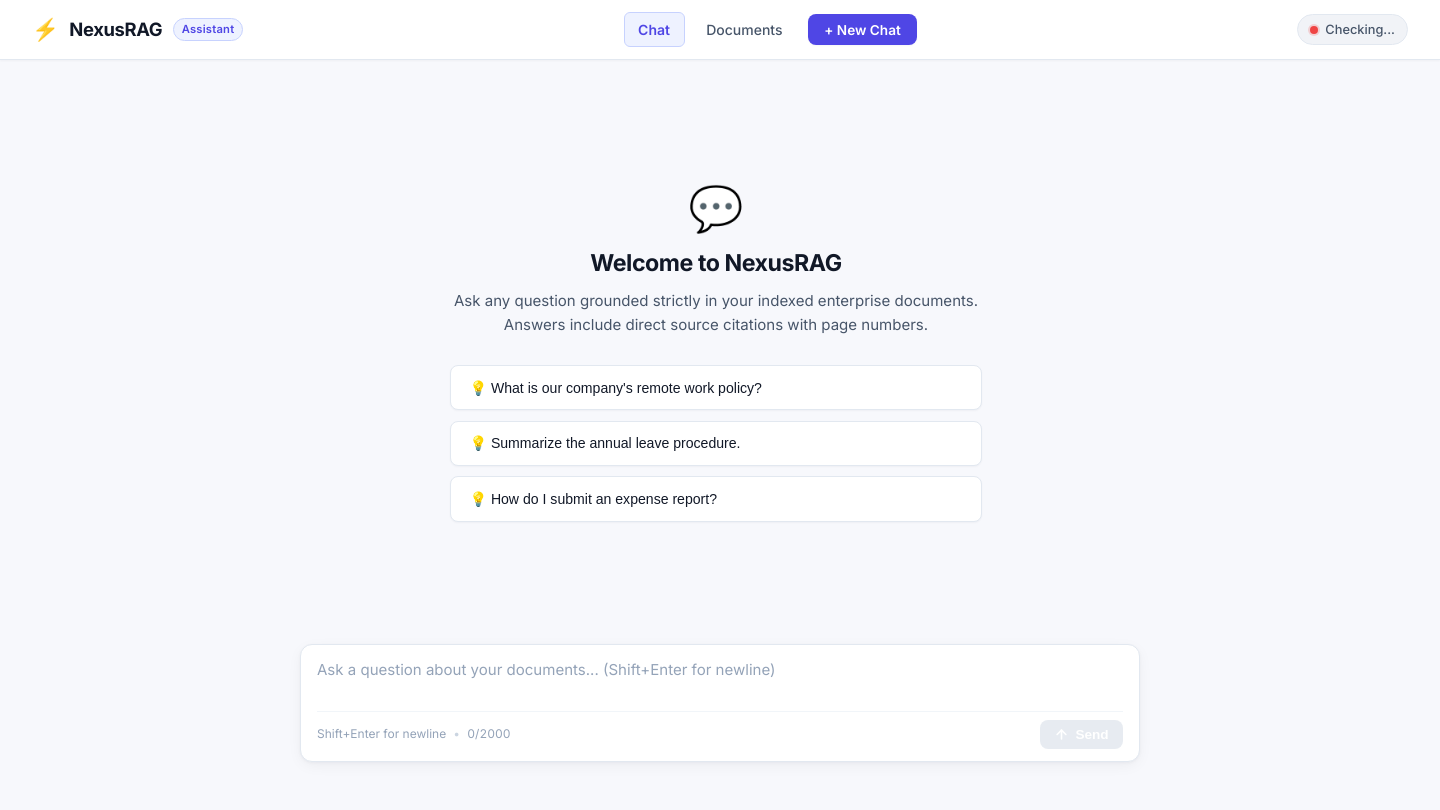
Test case: Conversation Persistence — ConversationContext › 9. Chat messages survive navigation Chat → Documents → Chat
// Send a message on Chat page
Replace the text in the text box with test id "chat-input-textarea" with "Leave policy?" at (720, 683), box 317,659 -> 1123,707
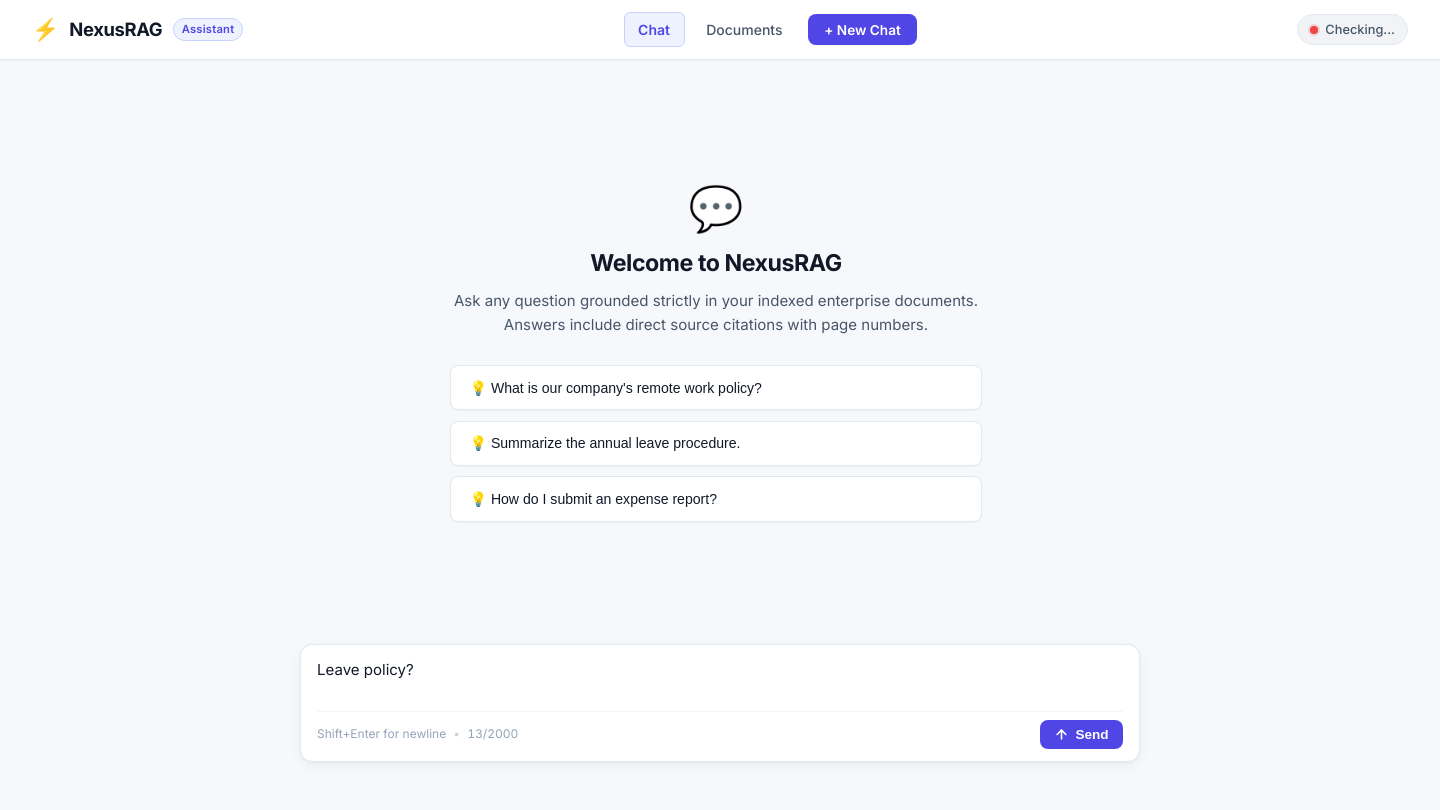
Click the button with test id "chat-submit-btn" at (1081, 734), box 1040,720 -> 1123,749
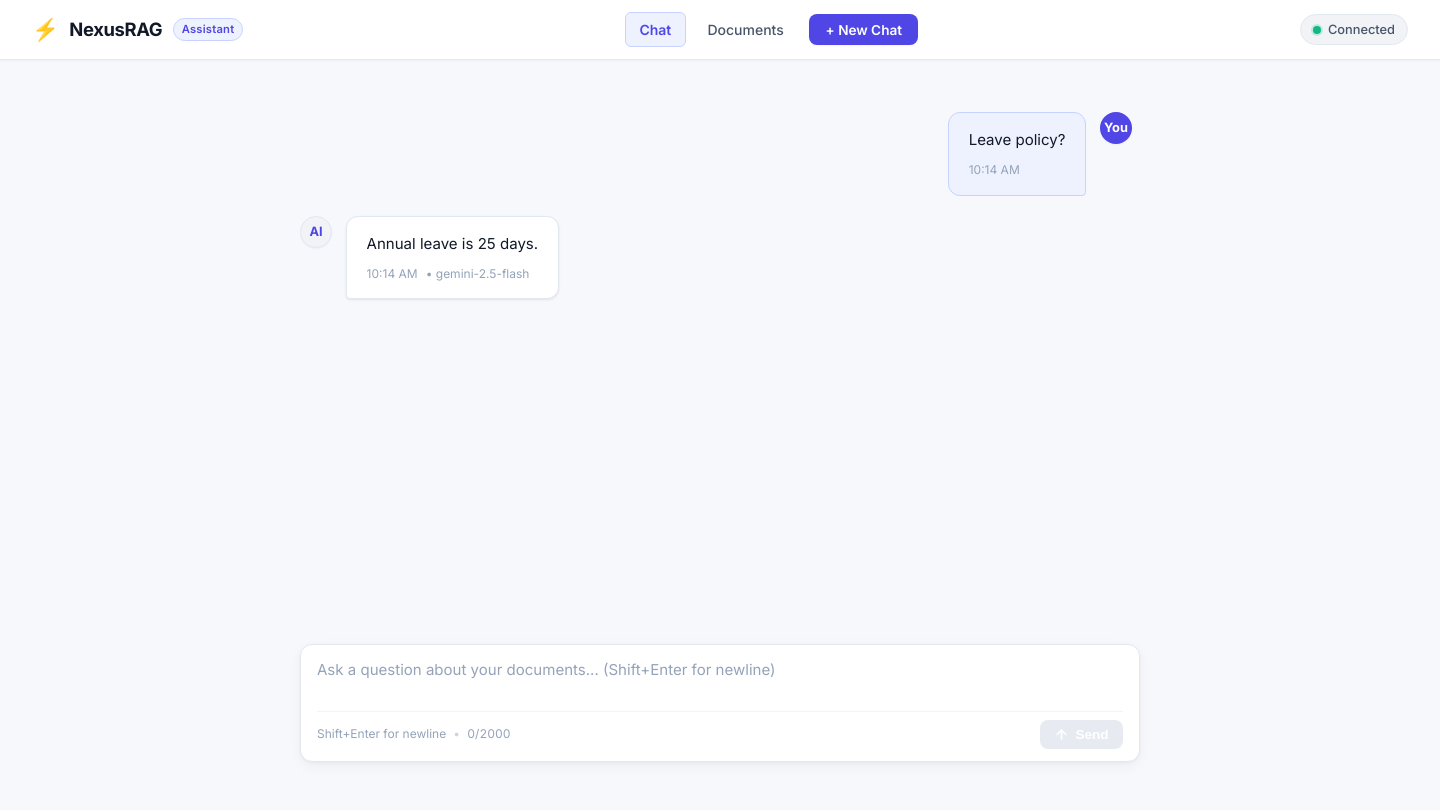
Now the text "Annual leave is 25 days." is shown, box 367,232 -> 538,256
// Navigate to Documents
Click the link with test id "nav-documents-link" at (746, 30), box 708,21 -> 784,38
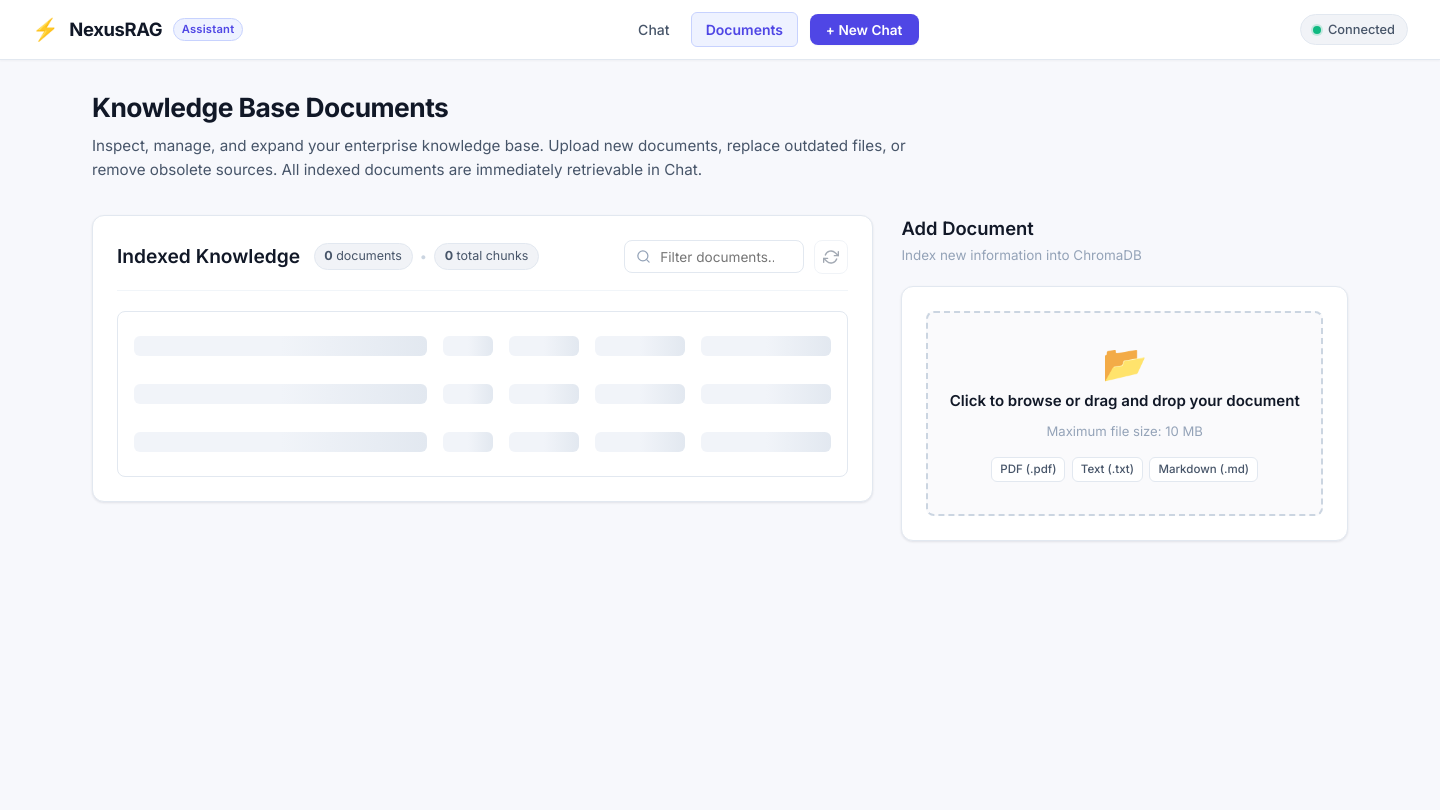
Now the element with test id "documents-page" is shown, box 92,88 -> 1348,541
// Navigate back to Chat
Click the link with test id "nav-chat-link" at (654, 30), box 638,21 -> 670,38
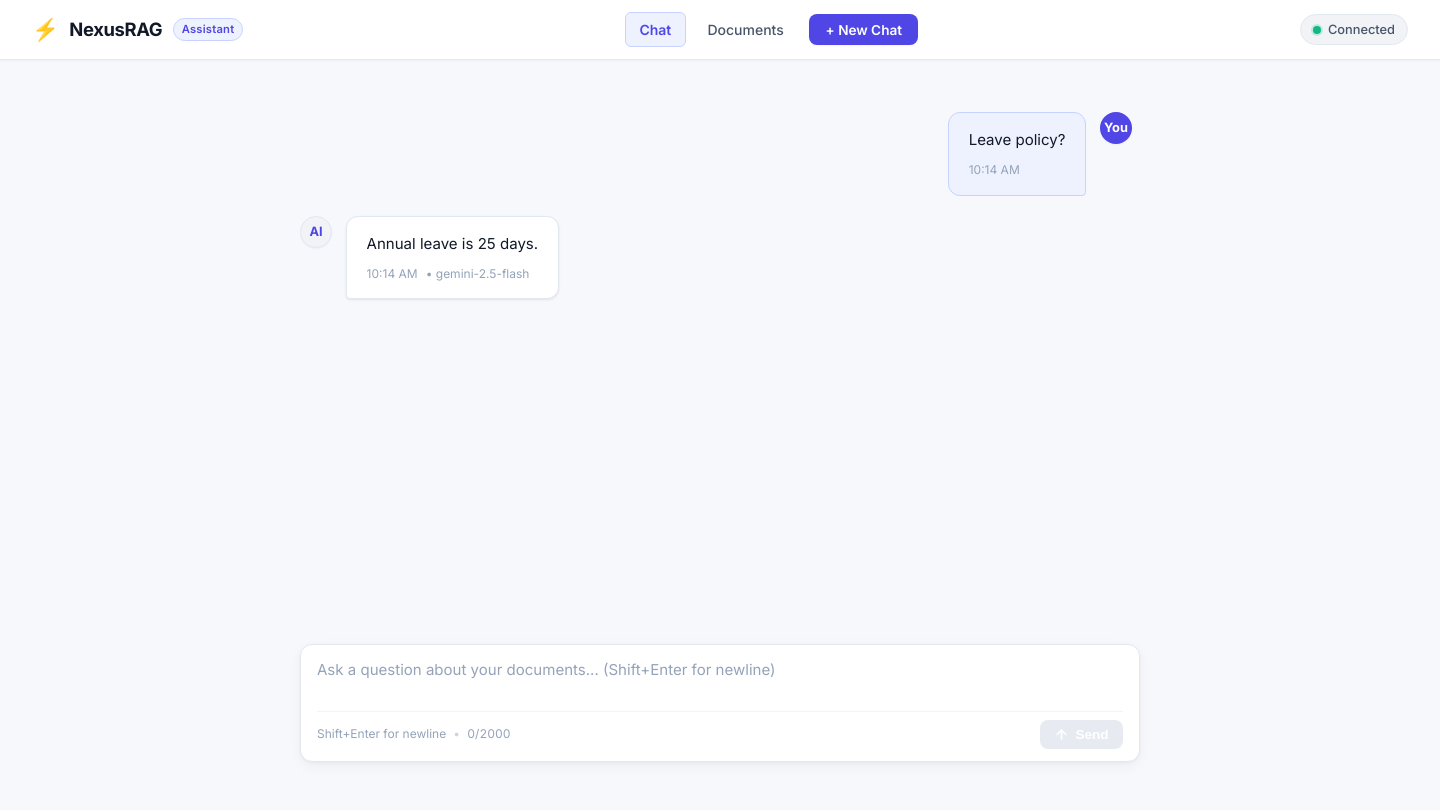
Now the text "Annual leave is 25 days." is shown, box 367,232 -> 538,256
Now the text "Leave policy?" is shown, box 969,128 -> 1065,152
